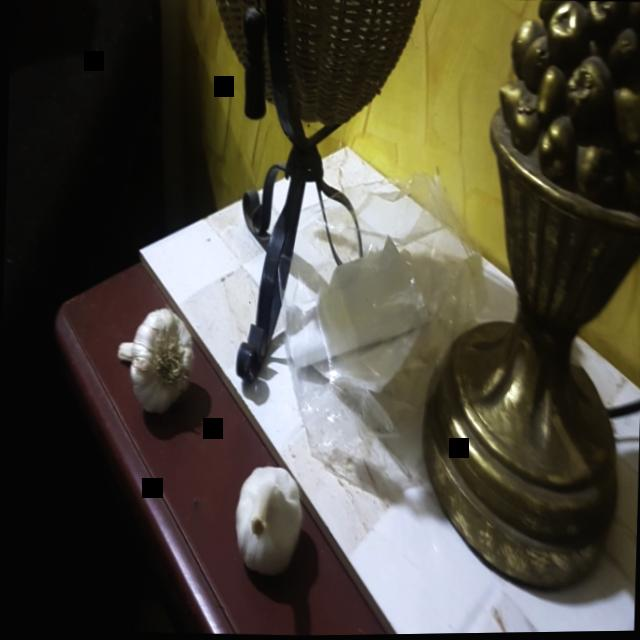garlic: (111, 308, 200, 417), (227, 463, 305, 570)
